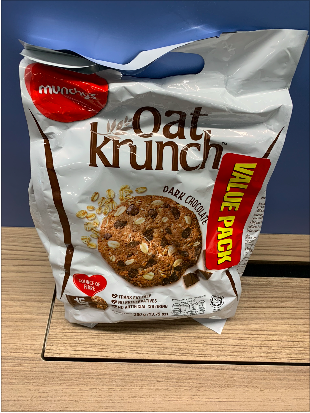Cookies_300-399g: (46, 83, 235, 321)
